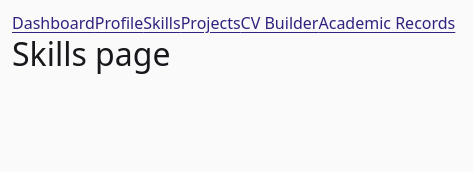
RootLayout › keeps Skills and Projects inside the persistent Student workspace shell
The image size is (473, 172).
expect the heading "Skills page" is shown: met, box [12, 32, 170, 75]
Click the link "Projects" at {"x": 211, "y": 23}, box [181, 12, 241, 34]
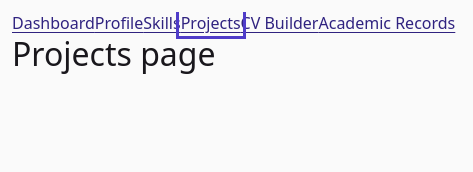
expect the heading "Projects page" is shown: met, box [12, 32, 216, 75]
